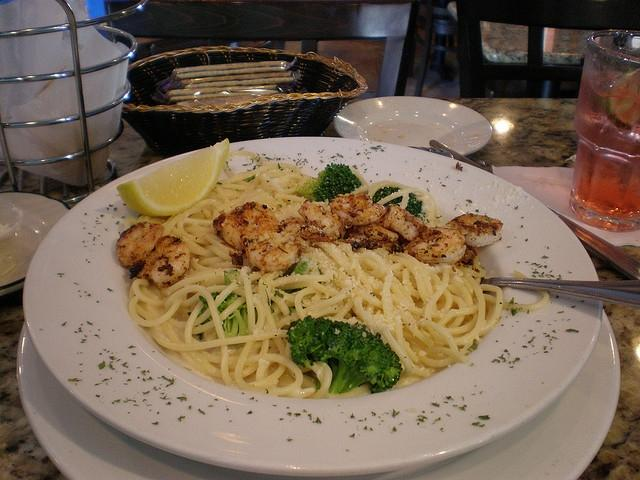broccoli: (286, 314, 402, 394), (197, 292, 258, 338), (296, 162, 362, 204), (372, 187, 423, 218), (281, 259, 321, 294)
lemon: (116, 138, 230, 216)
